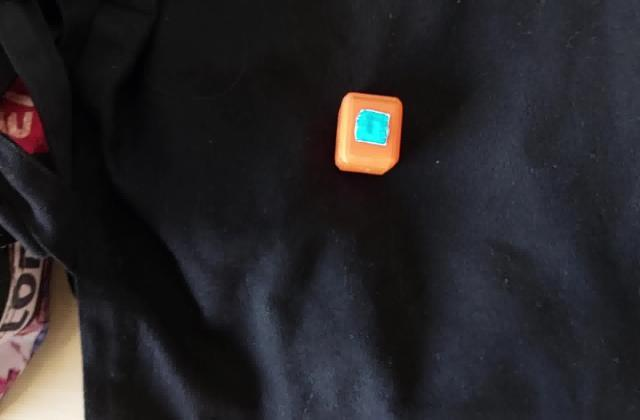blue: (363, 115, 384, 140)
sticker: (332, 88, 404, 177)
